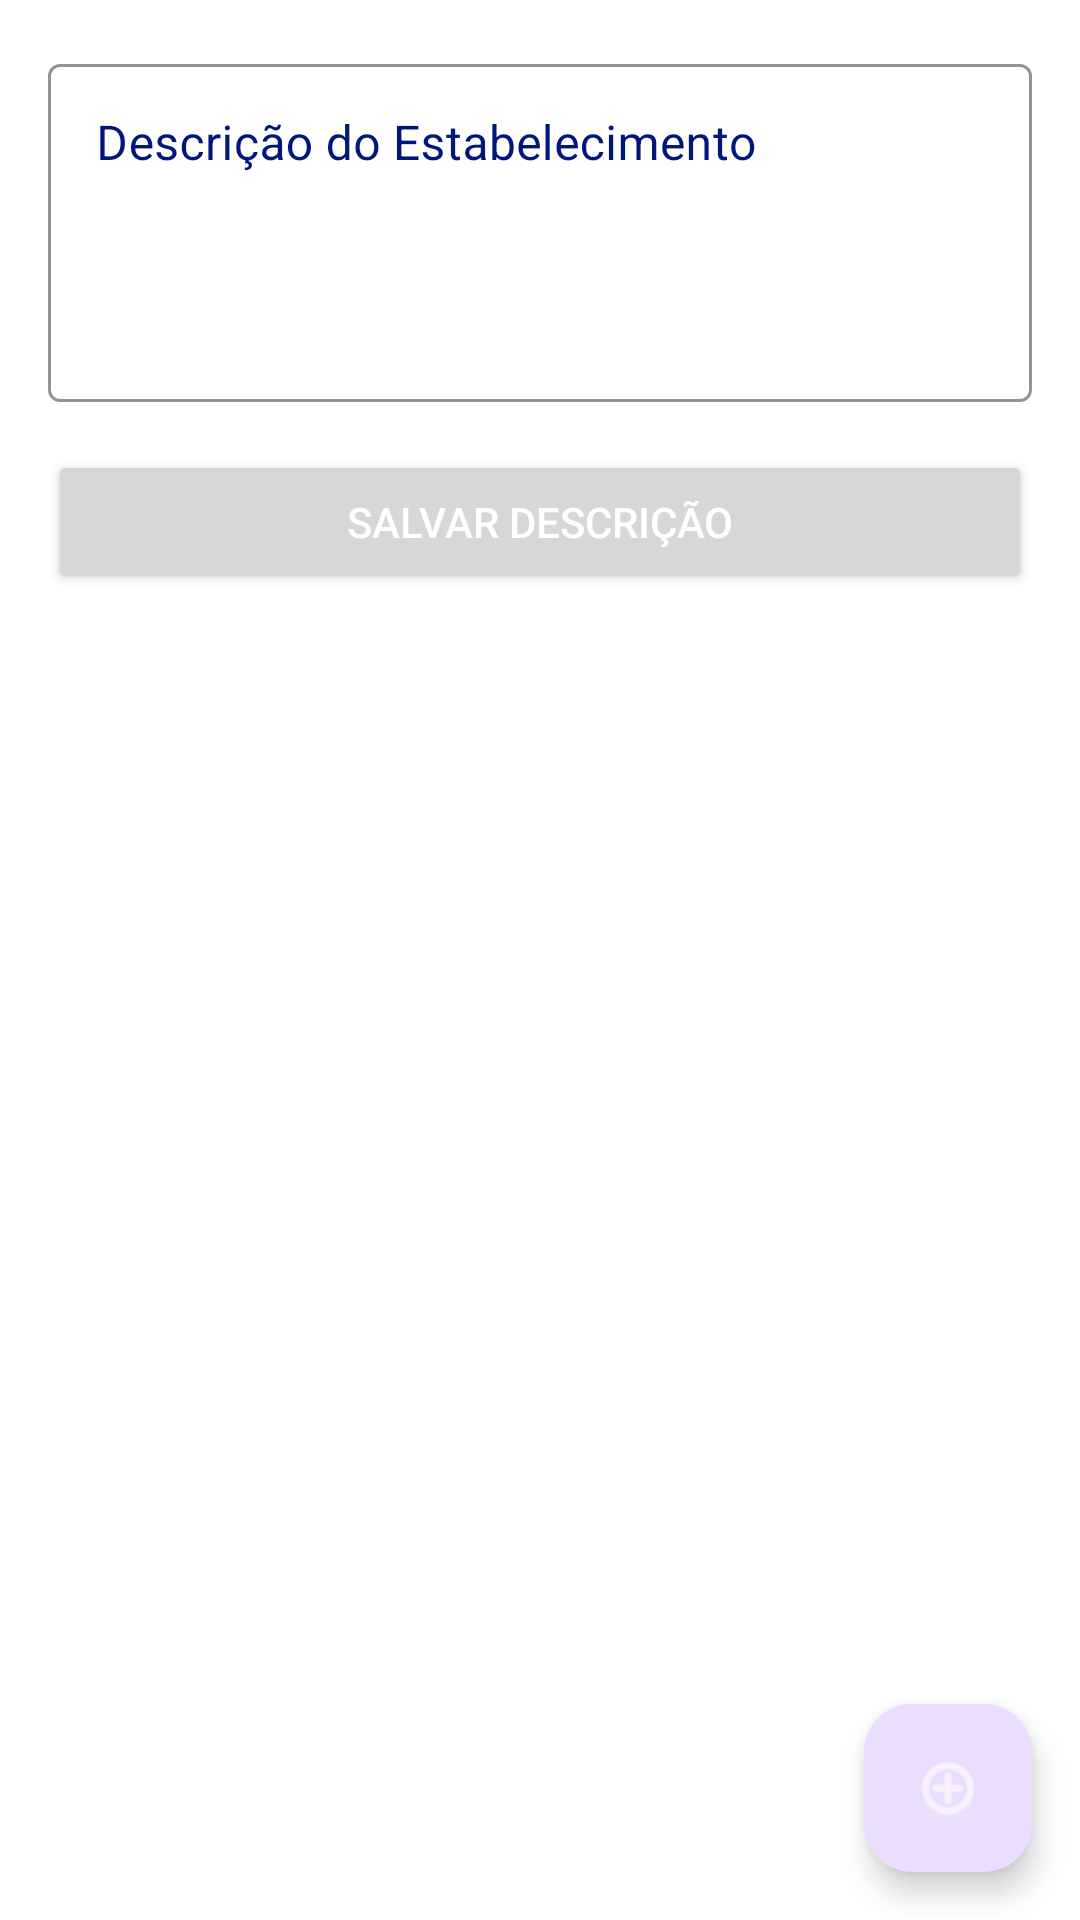

Icon click points for this 1080px×1920px phone screenshot, format (x,y):
Adicionar Foto: (948,1788)
